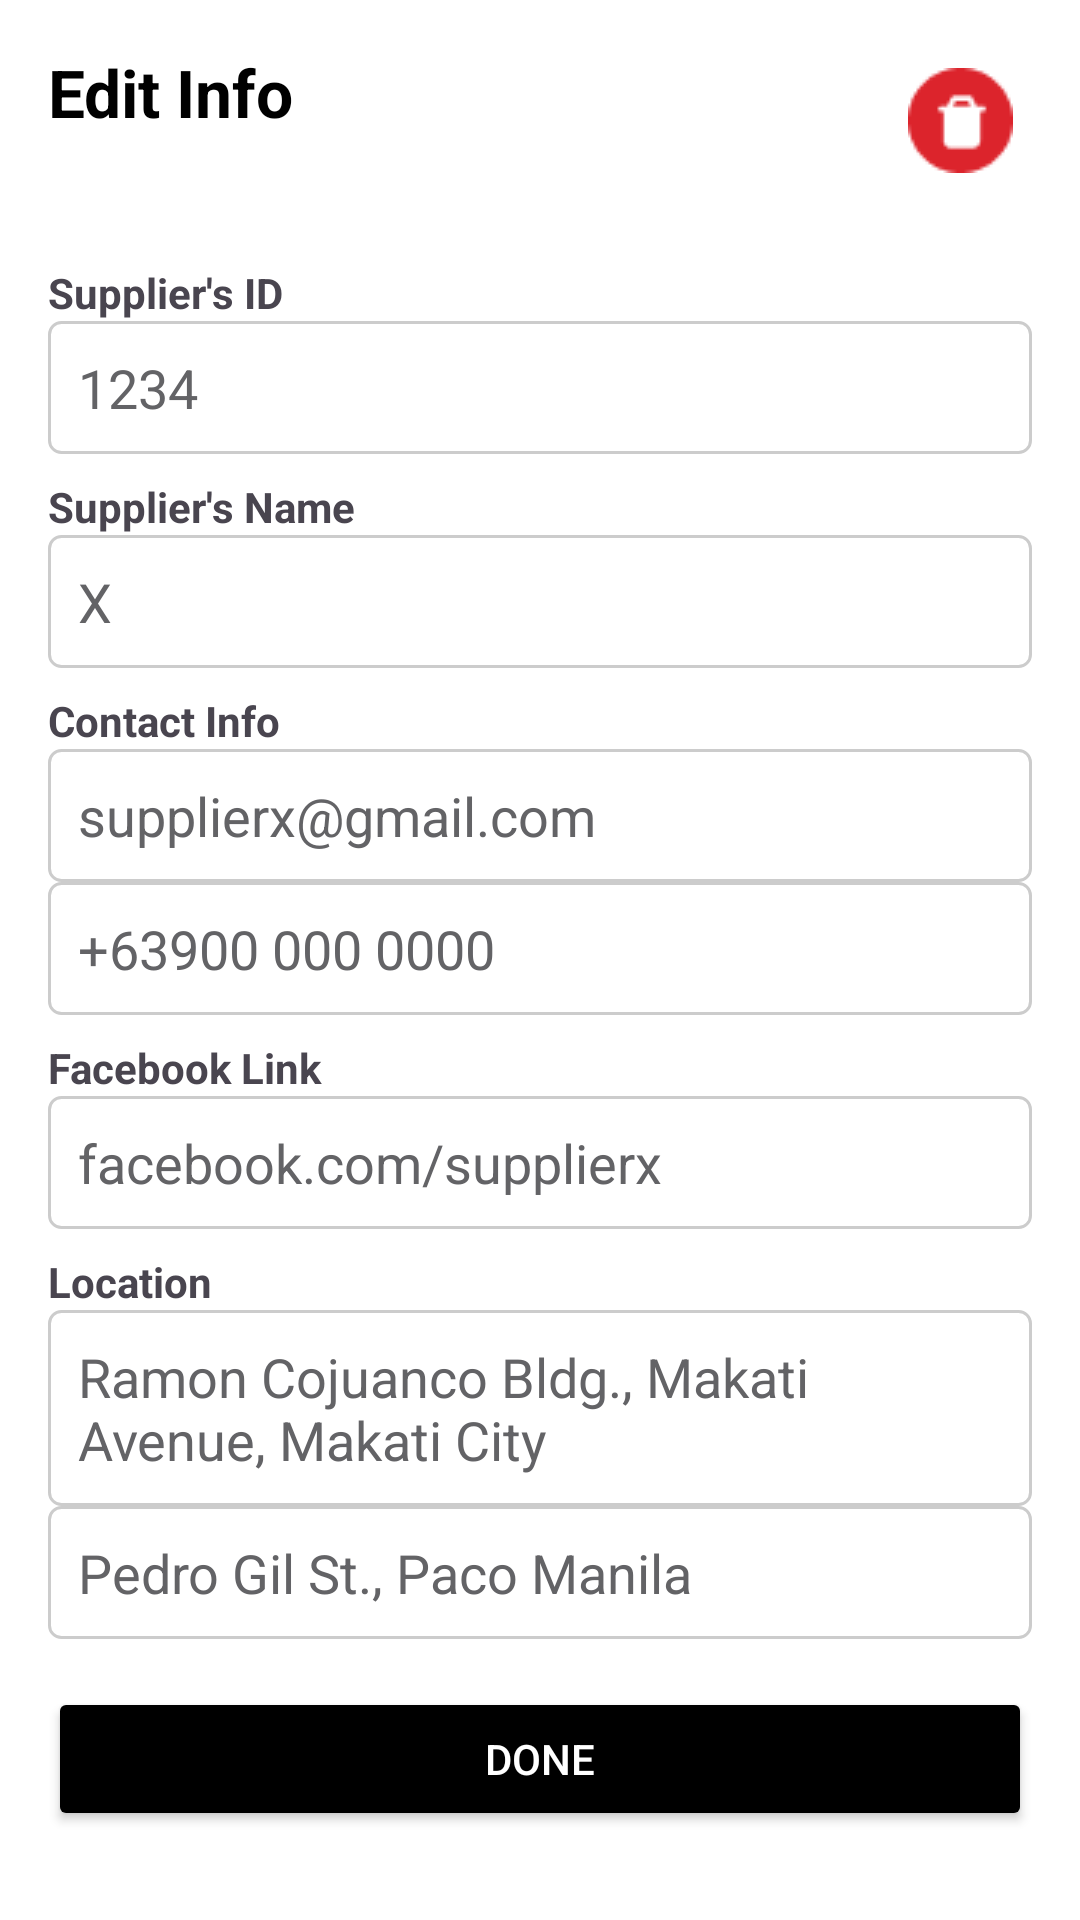

Where icons sit on this 1080 x 1920 app screen, as (x1, y1, x2, y2):
delete: (908, 68, 1013, 173)
